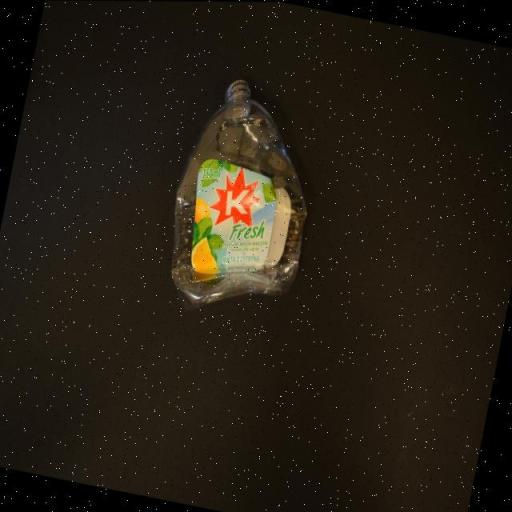plastic: (156, 66, 334, 329)
